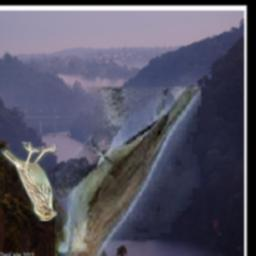Cuckoo: (55, 88, 201, 256)
Sparrow: (1, 142, 57, 221)
